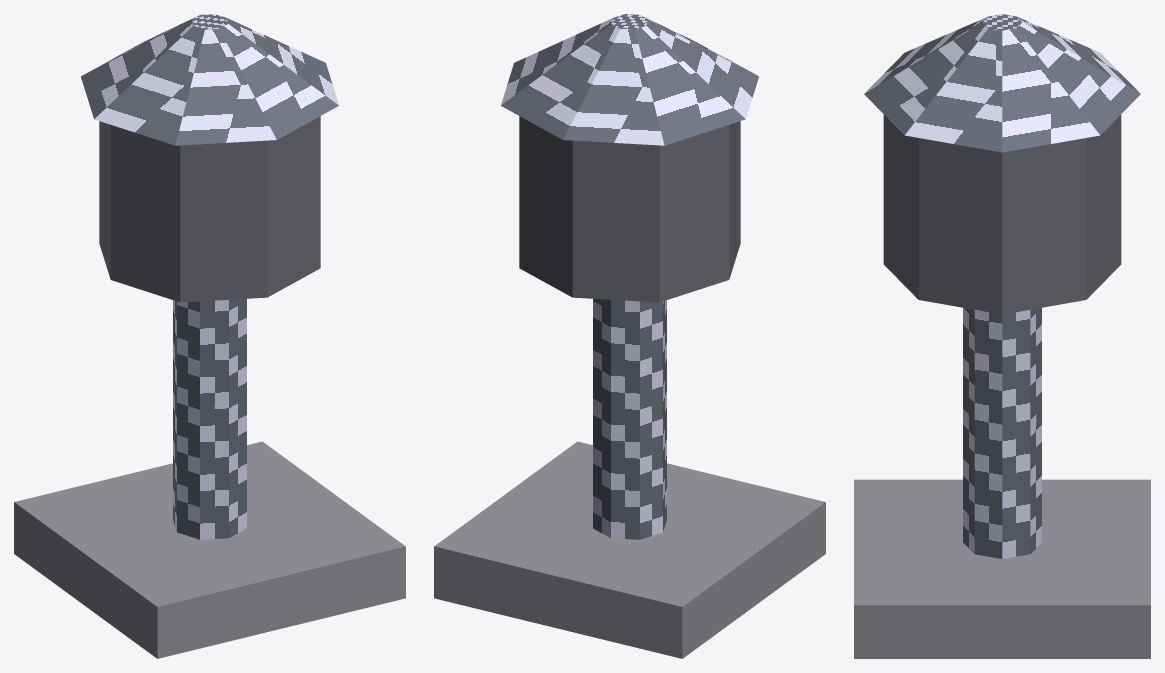
Rendered from frost_lantern_split.glb.
The picture shows the model from 3 angles, left to right: view 1: azimuth 30°, elevation 25°; view 2: azimuth 150°, elevation 25°; view 3: azimuth 270°, elevation 25°; orthographic projection. The views are drawn at different scales.
Parts seen in each view (by area): view 1: part_5, part_2, part_1, part_4; view 2: part_5, part_2, part_1, part_4; view 3: part_5, part_2, part_1, part_4.
Part boxes in pixels (left/top/right/bottom): part_5: left=14, top=441, right=405, bottom=658; part_2: left=99, top=116, right=320, bottom=302; part_1: left=81, top=14, right=338, bottom=145; part_4: left=173, top=299, right=246, bottom=539; part_5: left=434, top=441, right=825, bottom=658; part_2: left=519, top=116, right=740, bottom=302; part_1: left=501, top=14, right=758, bottom=145; part_4: left=593, top=299, right=666, bottom=539; part_5: left=854, top=479, right=1150, bottom=658; part_2: left=883, top=114, right=1121, bottom=314; part_1: left=864, top=14, right=1140, bottom=152; part_4: left=963, top=308, right=1041, bottom=558.
Size of the model in its own units: 0.3 by 0.64 by 0.3.
Materials: 4 (1 with a texture image).
